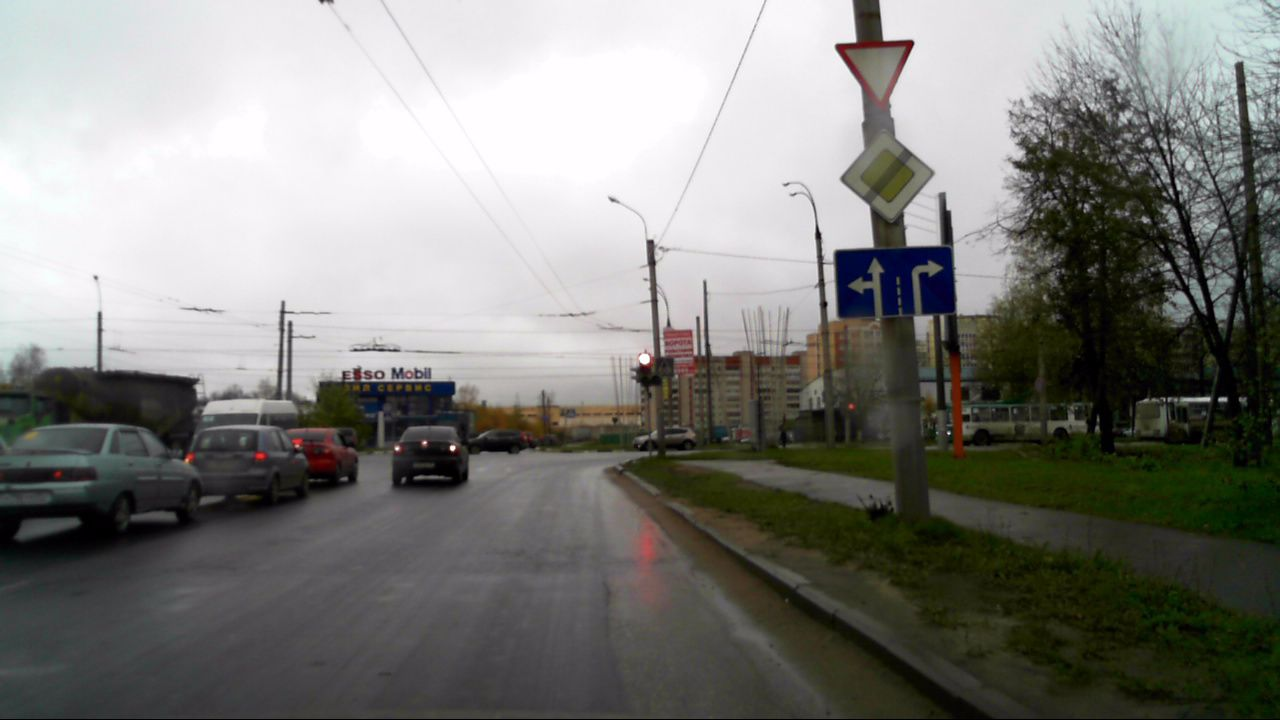main road: (838, 129, 936, 224)
